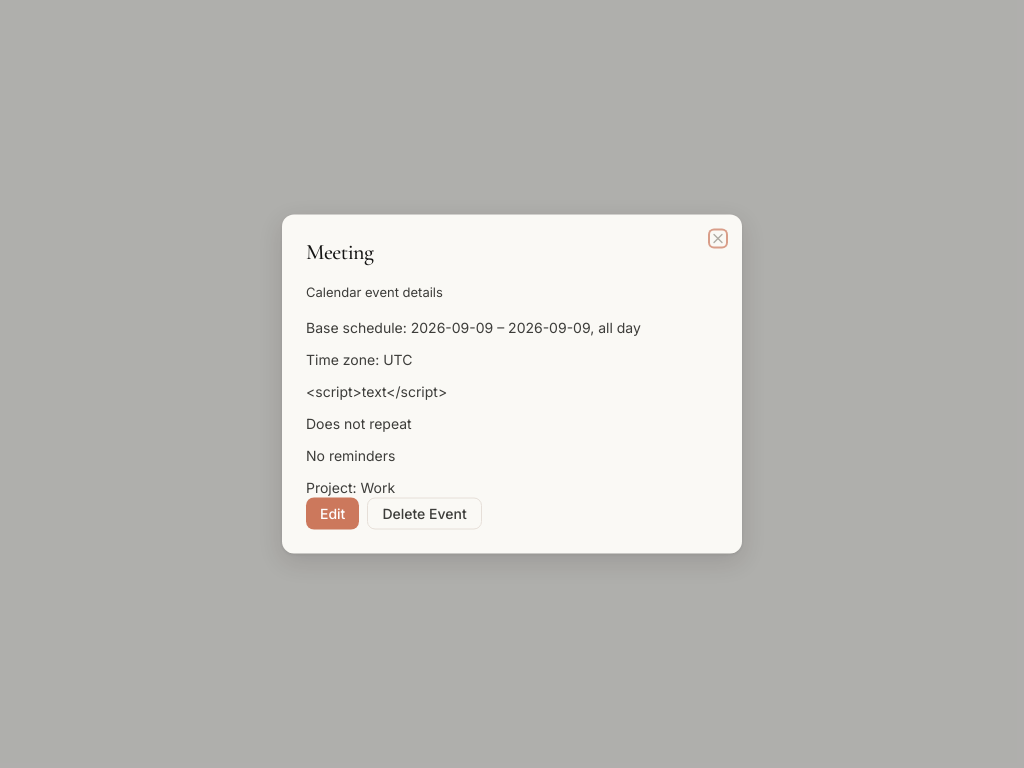
Test: edits the base schedule and preserves the opaque revision
Click the button "Edit" at coordinates (333, 514), box [306,498,359,530]
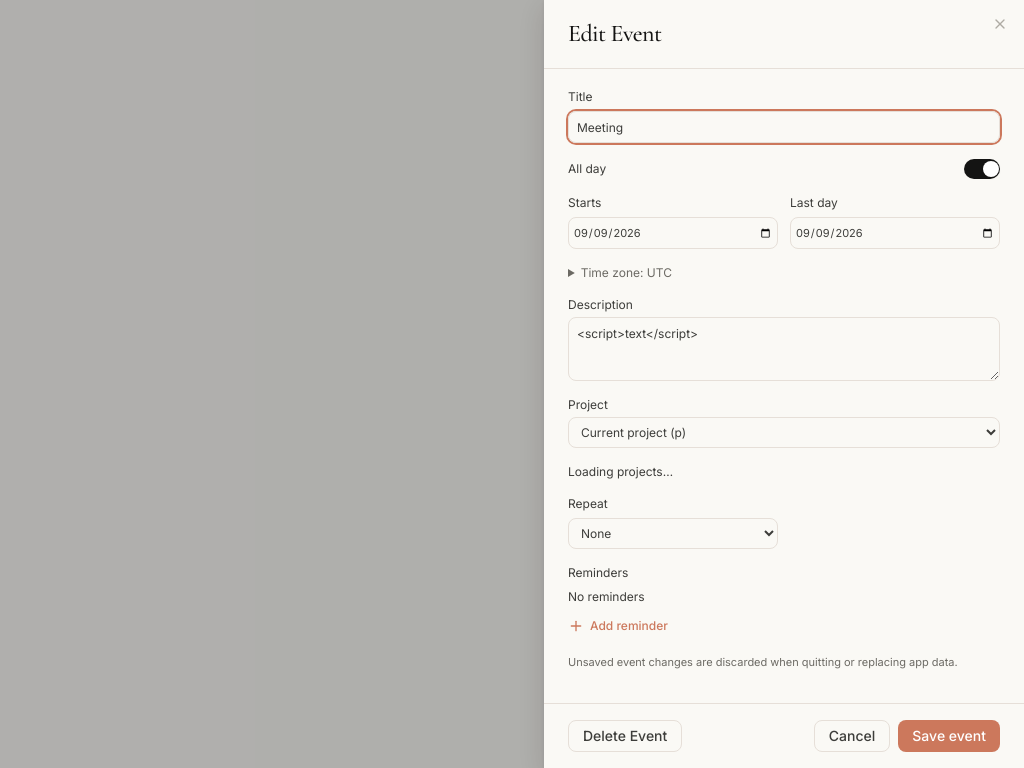
Check: the date field labelled "Starts" holds "2026-09-09", box [568,217,778,249]
Check: the date field labelled "Last day" holds "2026-09-09", box [790,217,1000,249]
Replace the text in the field labelled "Title" with "Saved" at coordinates (784, 127), box [568,111,1000,143]
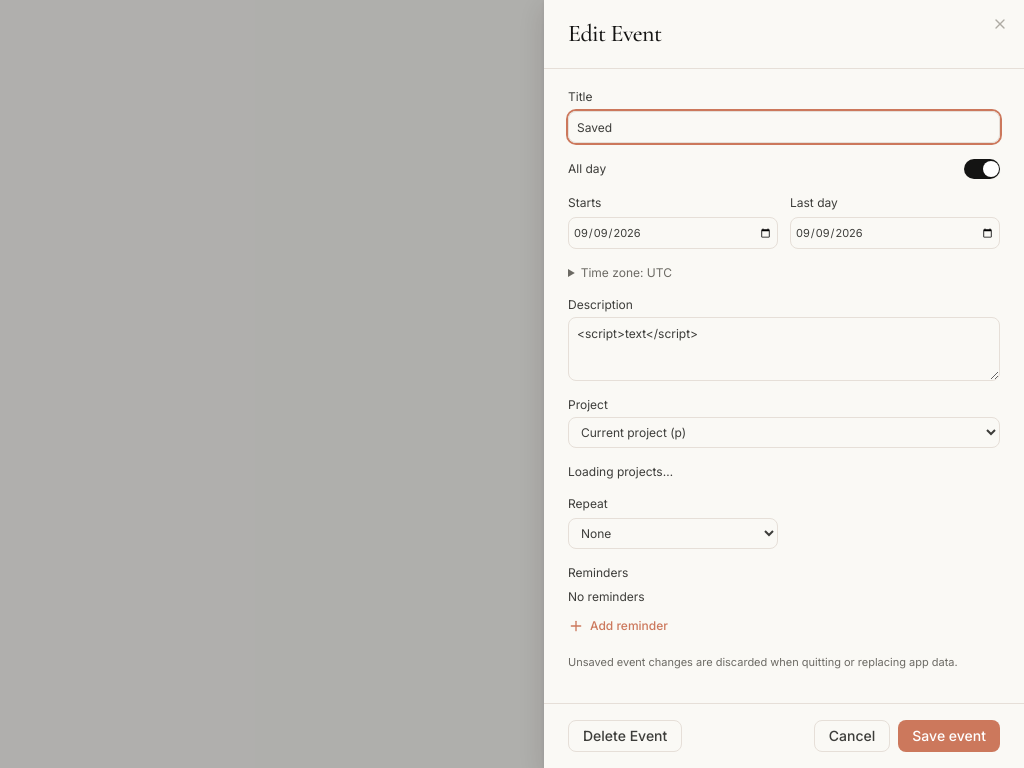
Click the button "Save event" at coordinates (949, 736), box [898,720,1000,752]
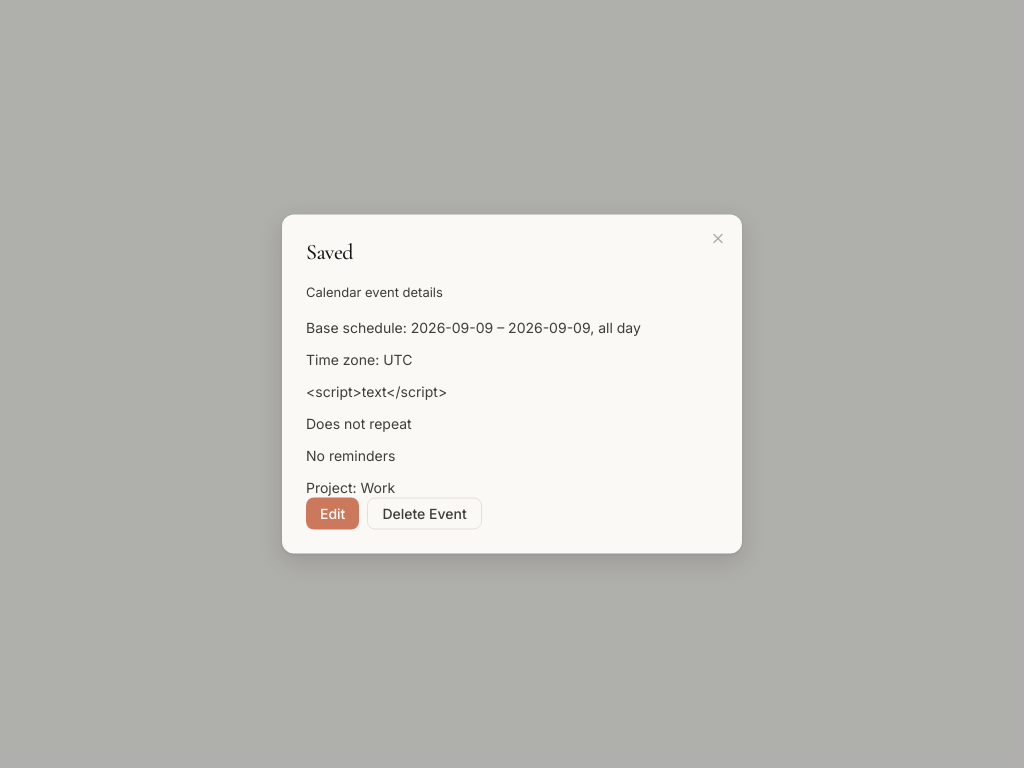
Check: the heading "Saved" is shown, box [306,238,353,264]
